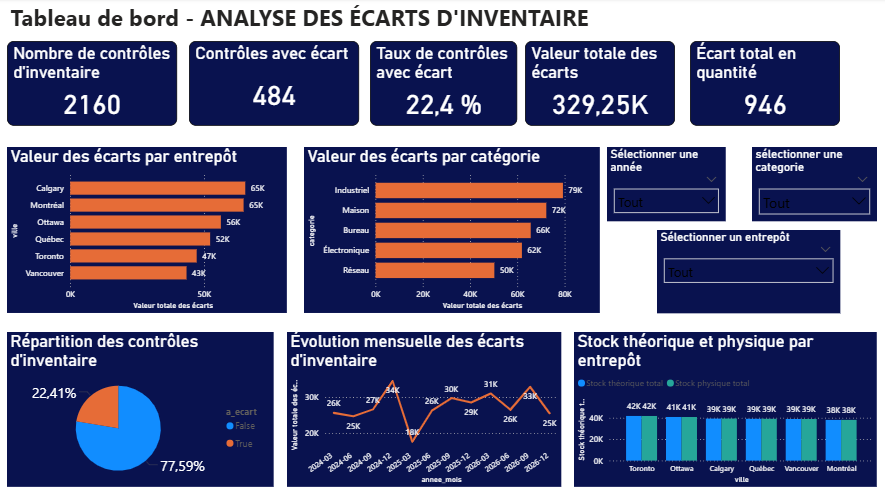

This screenshot's page, from the dashboard's own definition file:
{"tool":"powerbi","page":{"name":"Analyse des écarts d'inventaire","canvas":[1280,720],"ordinal":2},"visuals":[{"type":"textbox","box":[10.1,0,853.9,61.9],"z":0},{"type":"card","title":"Nombre de contrôles d''inventaire","fields":{"Values":["dwh Fact_Stock_Courant.Nombre de contrôles"]},"box":[10.1,61.9,244.8,122.4],"z":1000},{"type":"card","title":"Contrôles avec écart","fields":{"Values":["dwh Fact_Stock_Courant.Contrôles avec écart"]},"box":[272.2,61.9,244.8,122.4],"z":2000},{"type":"card","title":"Taux de contrôles avec écart","fields":{"Values":["dwh Fact_Inventaire.Taux de contrôles avec écart"]},"box":[532.8,61.9,211.7,122.4],"z":3000},{"type":"card","title":"Valeur totale des écarts","fields":{"Values":["dwh Fact_Inventaire.Valeur totale des écarts"]},"box":[756,61.9,216,122.4],"z":4000},{"type":"card","title":"Écart total en quantité","fields":{"Values":["dwh Fact_Inventaire.Écart total en quantité"]},"box":[993.6,61.9,216,122.4],"z":5000},{"type":"clusteredBarChart","title":"Valeur des écarts par entrepôt","fields":{"Category":["dwh Dim_Entrepot.ville"],"Y":["dwh Fact_Inventaire.Valeur totale des écarts"]},"box":[10.1,214.6,403.2,239],"z":6000},{"type":"clusteredBarChart","title":"Valeur des écarts par catégorie","fields":{"Category":["dwh Dim_Produit.categorie"],"Y":["dwh Fact_Inventaire.Valeur totale des écarts"]},"box":[437.8,214.6,426.2,239],"z":7000},{"type":"pieChart","title":"Répartition des contrôles d''inventaire","fields":{"Y":["dwh Fact_Stock_Courant.Nombre de contrôles"],"Category":["dwh Fact_Inventaire.a_ecart"]},"box":[10.1,481,384.5,223.2],"z":8000},{"type":"lineChart","title":"Évolution mensuelle des écarts d''inventaire","fields":{"Y":["dwh Fact_Inventaire.Valeur totale des écarts"],"Category":["dwh Dim_Date.annee_mois"]},"box":[413.3,481,394.6,223.2],"z":9000},{"type":"slicer","title":"Sélectionner une année","fields":{"Values":["dwh Dim_Date.annee"]},"box":[874.1,214.6,171.4,106.6],"z":10000},{"type":"clusteredColumnChart","title":"Stock théorique et physique par entrepôt","fields":{"Category":["dwh Dim_Entrepot.ville"],"Y":["dwh Fact_Inventaire.Stock théorique total","dwh Fact_Inventaire.Stock physique total"]},"box":[826.6,481,436.3,223.2],"z":10001},{"type":"slicer","title":"Sélectionner un entrepôt","fields":{"Values":["dwh Dim_Entrepot.ville"]},"box":[946.1,334.1,263.5,119.5],"z":10002},{"type":"slicer","title":"sélectionner une categorie","fields":{"Values":["dwh Dim_Produit.categorie"]},"box":[1082.9,214.6,180,106.6],"z":10003}]}

Visuals, with their boxes in screenshot pixels (x1, y1, x2, y2), scaled from the page's 1280x720 canvas onto the 885x492 screenshot:
textbox: 7 0 597 42
"Nombre de contrôles d''inventaire" card: 7 42 176 126
"Contrôles avec écart" card: 188 42 357 126
"Taux de contrôles avec écart" card: 368 42 515 126
"Valeur totale des écarts" card: 523 42 672 126
"Écart total en quantité" card: 687 42 836 126
"Valeur des écarts par entrepôt" clusteredBarChart: 7 147 286 310
"Valeur des écarts par catégorie" clusteredBarChart: 303 147 597 310
"Répartition des contrôles d''inventaire" pieChart: 7 329 273 481
"Évolution mensuelle des écarts d''inventaire" lineChart: 286 329 559 481
"Sélectionner une année" slicer: 604 147 723 219
"Stock théorique et physique par entrepôt" clusteredColumnChart: 572 329 873 481
"Sélectionner un entrepôt" slicer: 654 228 836 310
"sélectionner une categorie" slicer: 749 147 873 219
